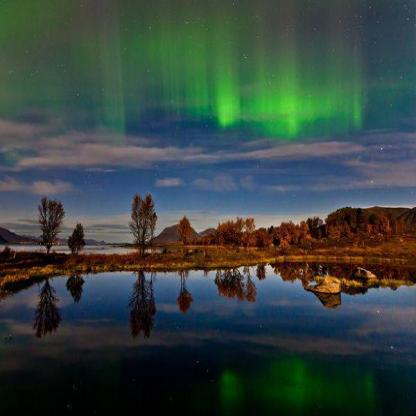other: (160, 47, 356, 143)
